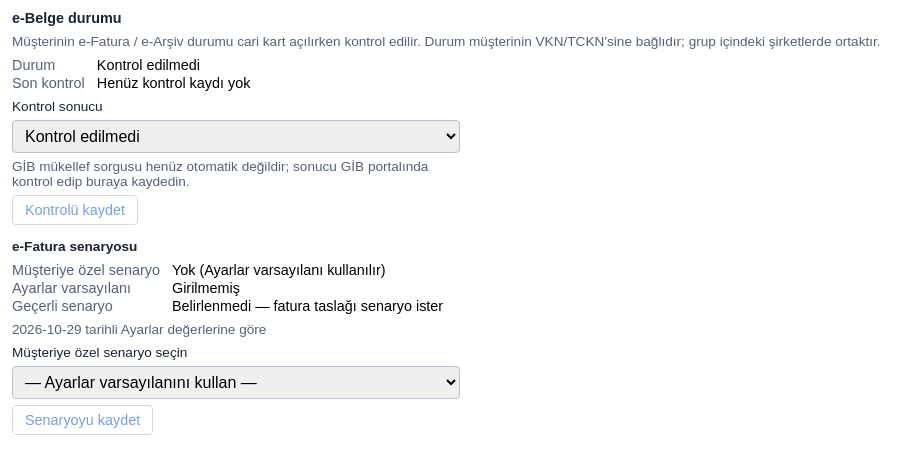
Test: SAT-D102 e-belge panel on the Cari card › names a version conflict and reads the profile again
The image size is (897, 475).
Select "CODE_A" in the dropdown labelled "Müşteriye özel senaryo seçin" at (236, 382), box [12,366,460,399]
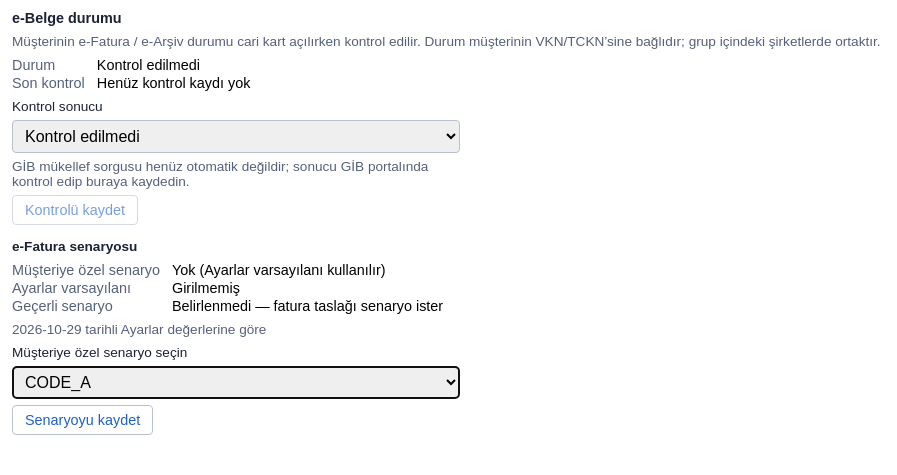
Click the button "Senaryoyu kaydet" at (83, 420), box [12,405,153,435]
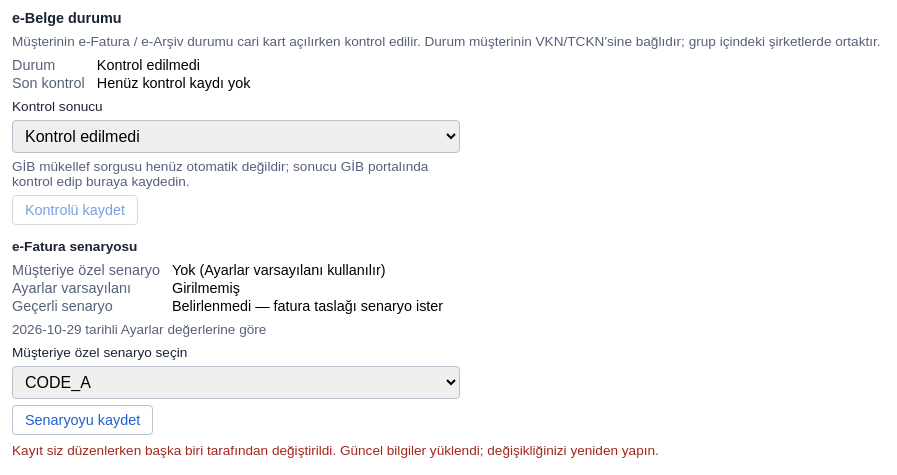
Now the message shows "Kayıt siz düzenlerken başka biri tarafından değiştirildi. Güncel bilgiler yüklendi; değişikliğinizi yeniden yapın.", box [12,443,659,458]
